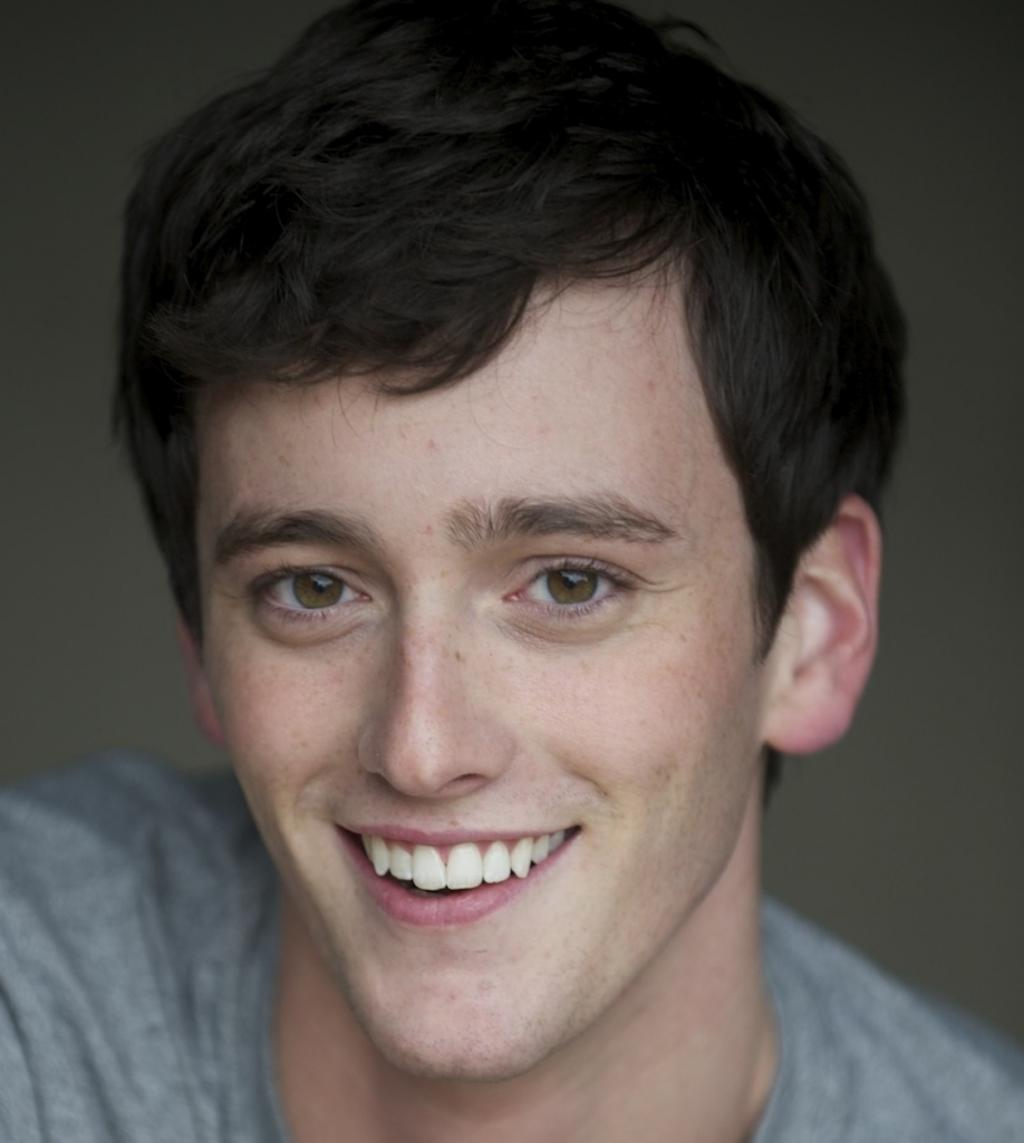face: (199, 259, 763, 1064)
